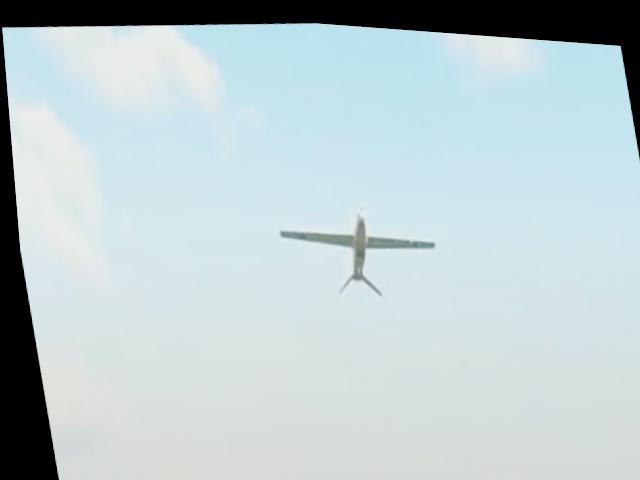iha: (265, 183, 446, 304)
